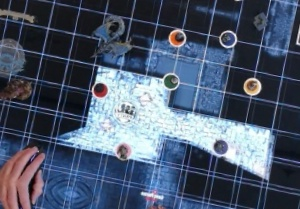blue: (218, 28, 241, 51)
green: (159, 68, 182, 92)
orange: (164, 27, 189, 48)
pink: (110, 137, 136, 163)
red: (89, 77, 110, 100)
violet: (210, 136, 232, 158)
yellow: (238, 73, 265, 97)
